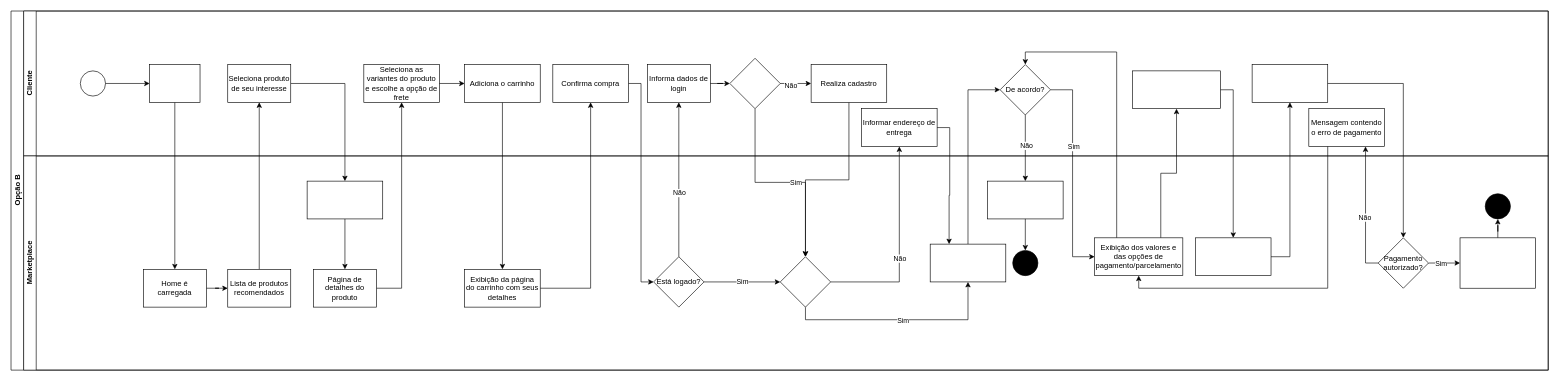
The diagram is 1559 pixels wide and 381 high, and some of its shapes have lost their labels. The centre of each missing label's shape, as x and y in pixels:
"Acessa o site ou aplicativo" goes at [174,83].
"Calculo de pontos na compra de produto para ser apresentado" goes at [344,199].
"Calculo dos pontos considerando o carrinho completo" goes at [1233,256].
"Carrinho abandonado" goes at [1025,199].
"Confirma pedido" goes at [1289,83].
"Escolhe opção de pagamento/parcelamento e inputa dados dos mesmo" goes at [1176,89].
"Exibe tela de confirmação de pedido contendo os valores de pontos futuros" goes at [1497,262].
"Exibição dos valores atualizados junto aos seus respectivos fretes" goes at [968,262].
"Existe endereço cadastrado ?" goes at [805,281].
"Possui cadastro?" goes at [754,83].
